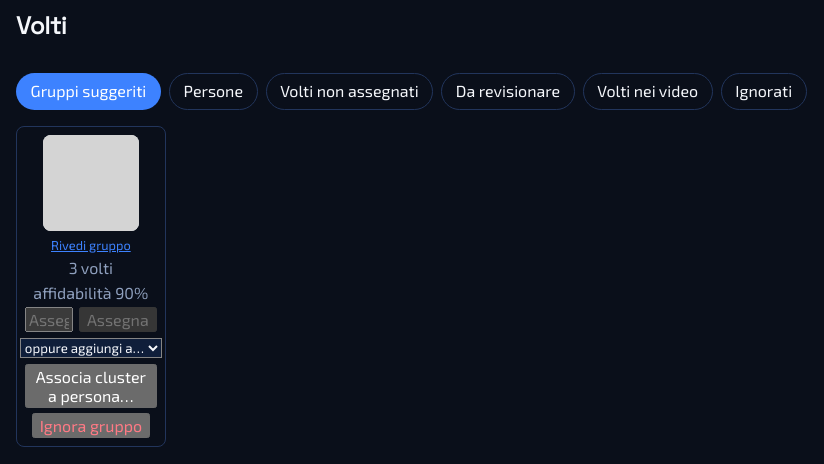
Test: switches to the People tab and lists named people
Expected: the text "3 volti" is shown, [69,258,113,277]
Click the button "Persone".
click(213, 91)  # box [169,73,258,110]
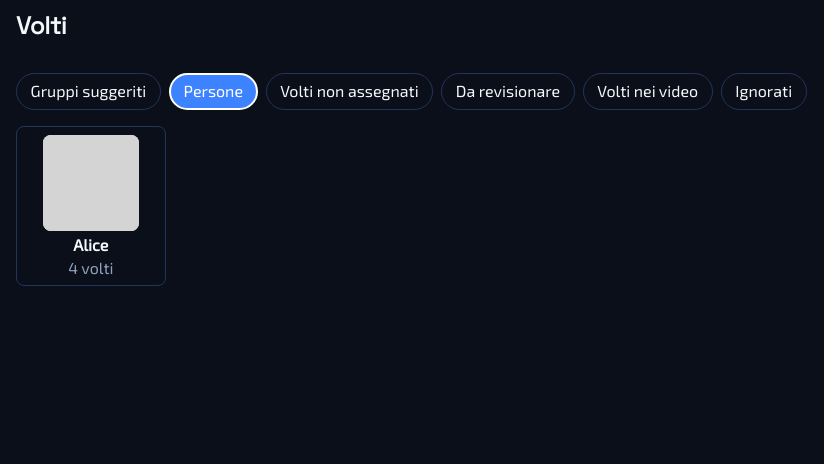
Expected: the text "Alice" is shown, [73,235,108,254]
Expected: the text "4 volti" is shown, [68,258,113,277]
